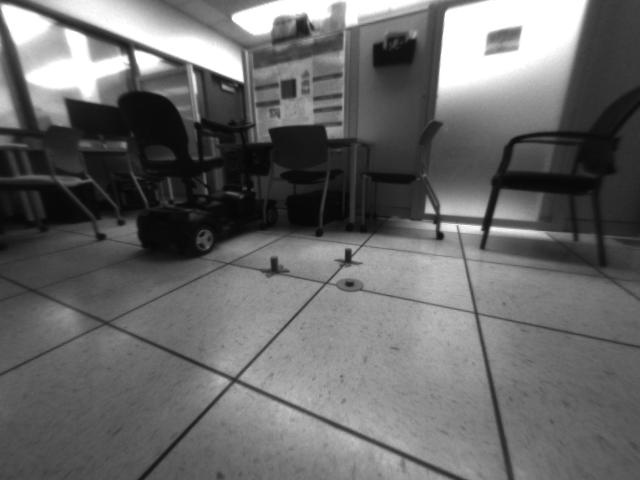X: (260, 256, 291, 277), (336, 245, 362, 268)
